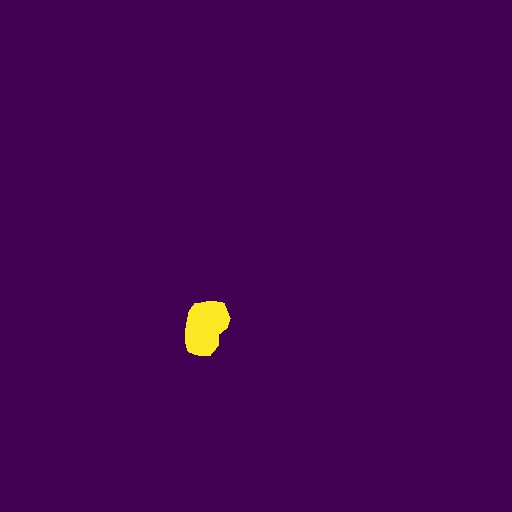Pituirity_tumour: (185, 301, 231, 356)
